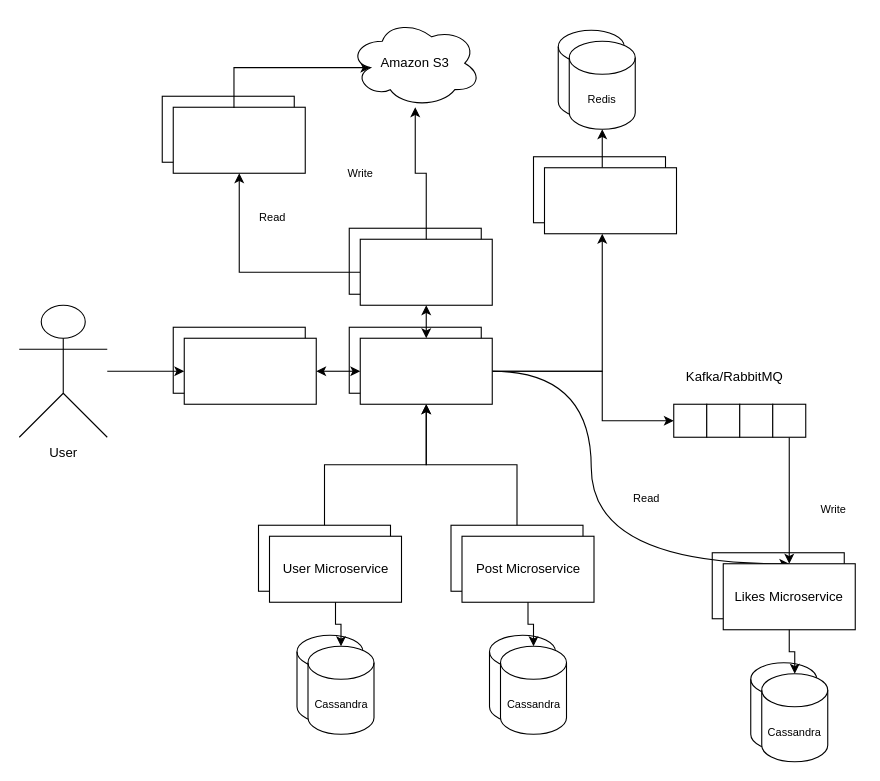
Some shapes in this 880 by 781 pixel diagram are drawn without their labels. The shapes that lost their labels are listed below. From the top down, each one's centre as x and y in pixels, then its label:
the point at 238,139: Cash Nginx
the point at 609,200: Session Microservice
the point at 425,271: Attachment microservice
the point at 249,370: Nginx
the point at 425,370: Event Microservice
